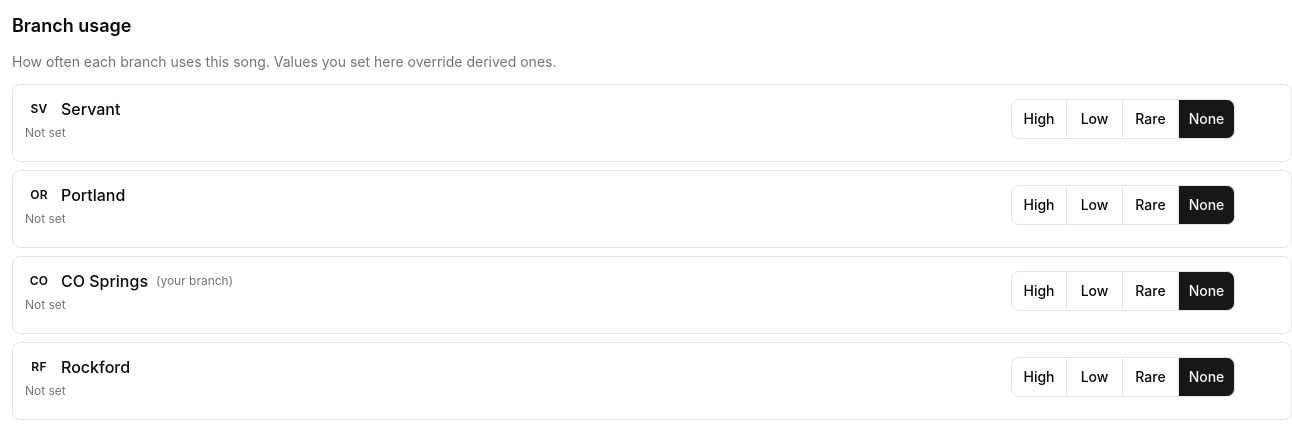
Scenario: UsageSection › sets High for a branch
Click the radio button labelled "High" in the row of "Portland": (1039, 205) x1=1011 y1=185 x2=1067 y2=225
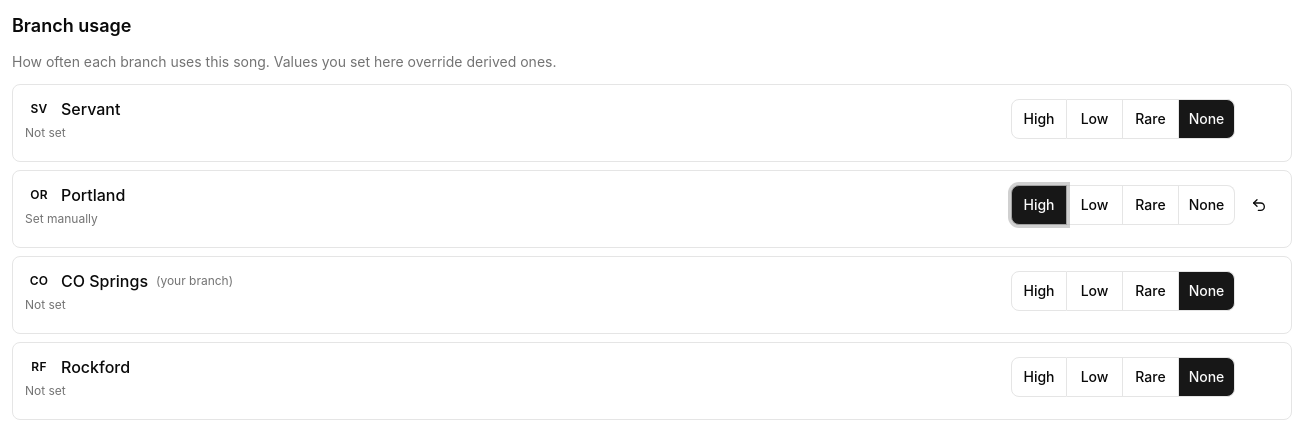
Expected: the text "Set manually" is shown, x1=25 y1=211 x2=98 y2=226
